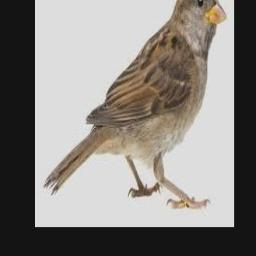Sparrow: (44, 0, 226, 209)
